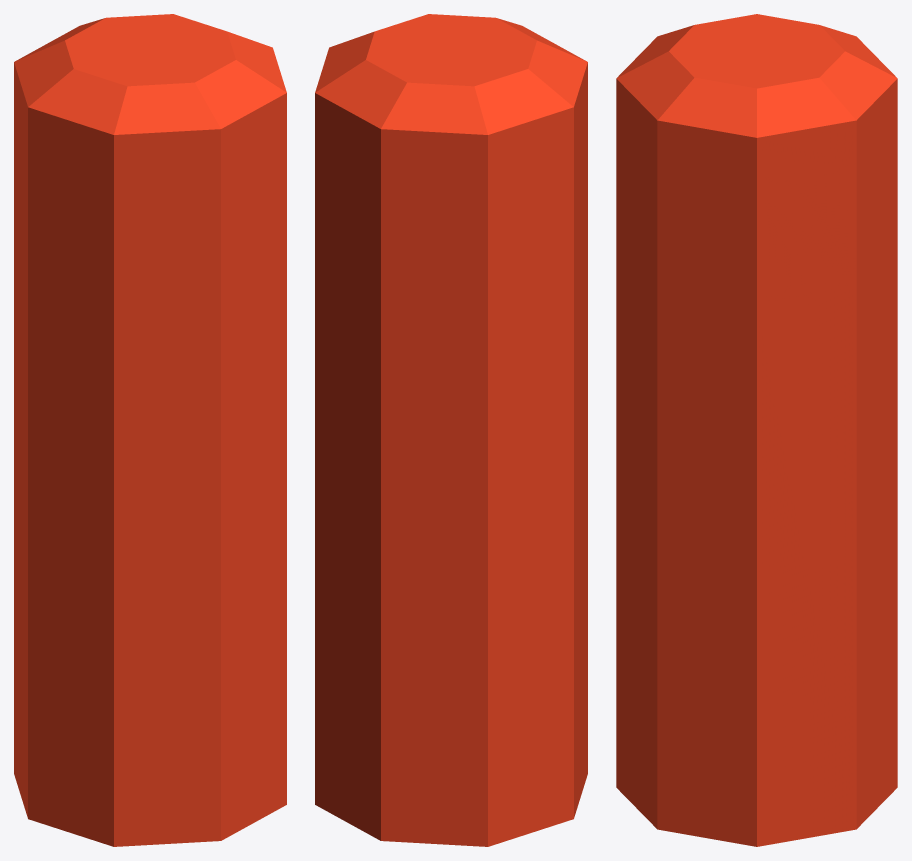
File: SM_Bollard_B_City.fbx
3 renders of one model, left to right at view 1: azimuth 30°, elevation 25°; view 2: azimuth 150°, elevation 25°; view 3: azimuth 270°, elevation 25°, orthographic.
Visible parts, largest first — view 1: SM_Bollard_B_City; view 2: SM_Bollard_B_City; view 3: SM_Bollard_B_City.
Boxes of the visible parts, x1=… form: SM_Bollard_B_City: x1=14, y1=14, x2=286, y2=846; SM_Bollard_B_City: x1=315, y1=14, x2=587, y2=846; SM_Bollard_B_City: x1=616, y1=14, x2=897, y2=846.
Bounding box in the file's own units: 0.2065 × 0.596 × 0.2065.
